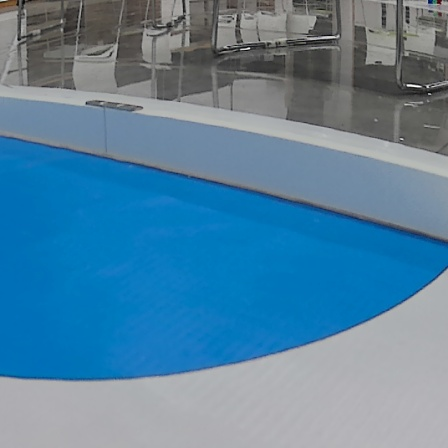blue_base: (0, 135, 448, 381)
